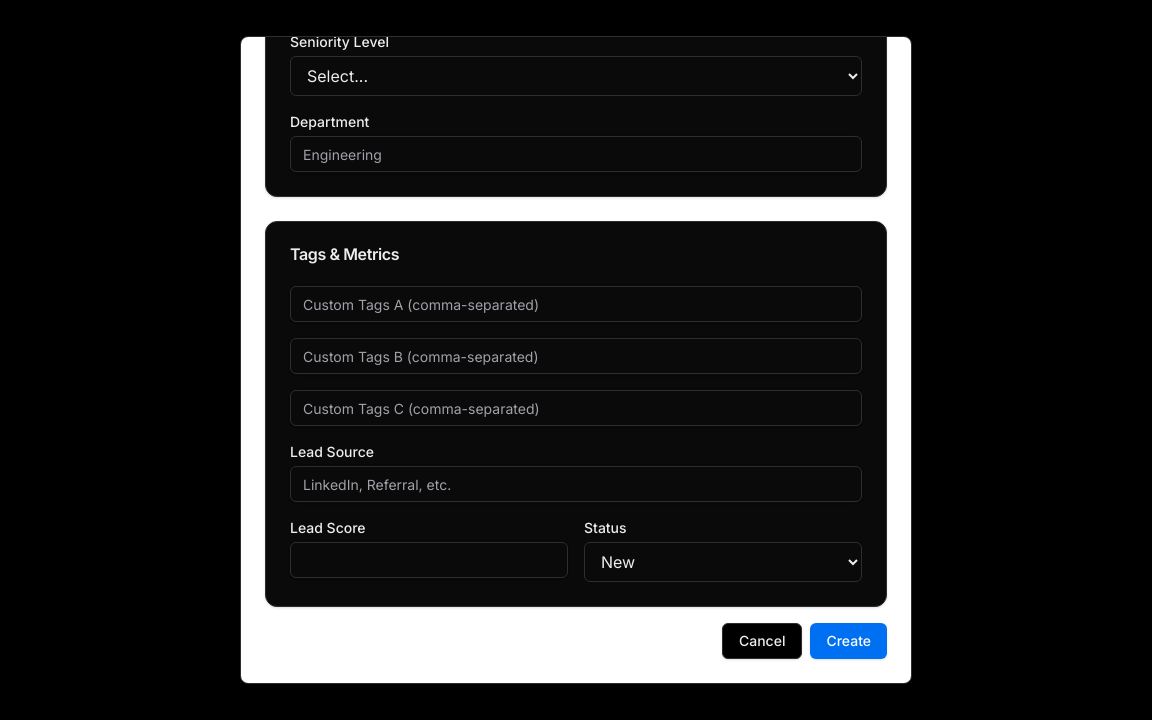
ContactForm › validates required fields
(page scrolled)
Click the button "Create" at (849, 641), box [810,623,887,659]
(page scrolled)
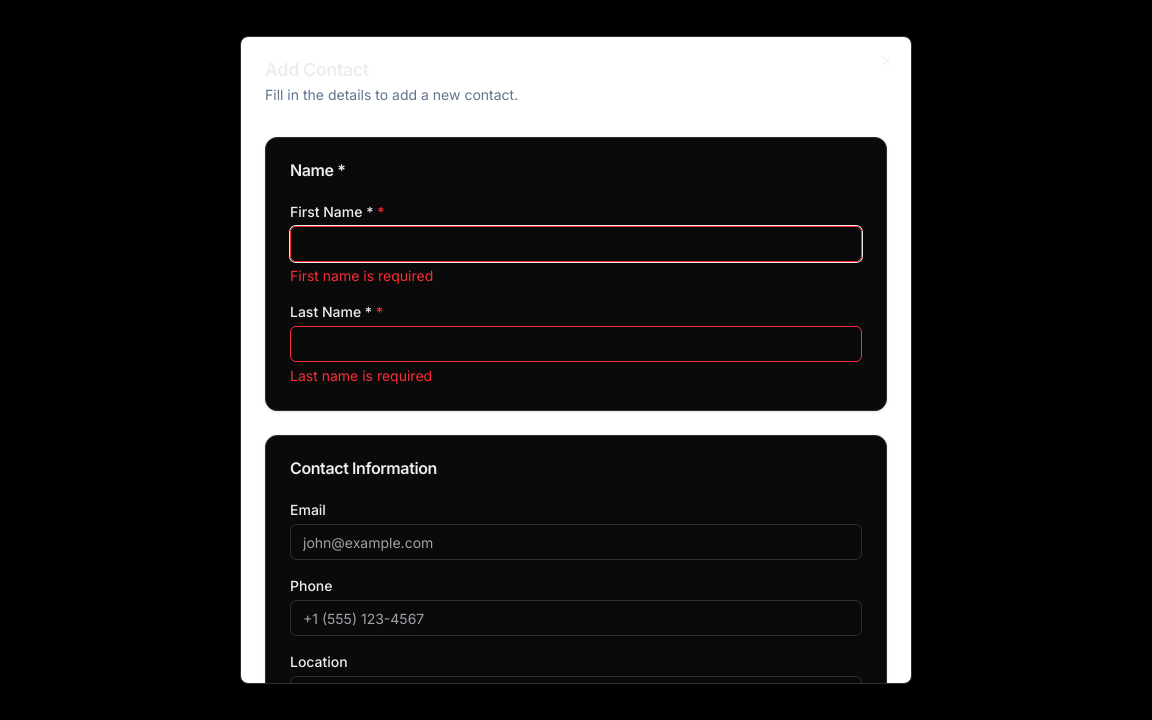
Now the text "First name is required" is shown, box [290,267,433,284]
